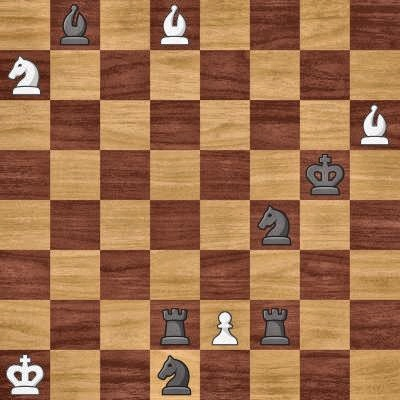black-bishop: (50, 0, 100, 50)
black-king: (300, 150, 350, 200)
black-knight: (250, 200, 300, 250), (150, 350, 200, 400)
black-rook: (150, 300, 200, 350), (250, 300, 300, 350)
white-bishop: (150, 0, 200, 50), (350, 100, 400, 150)
white-king: (0, 350, 50, 400)
white-knight: (0, 50, 50, 100)
white-pawn: (200, 300, 250, 350)
